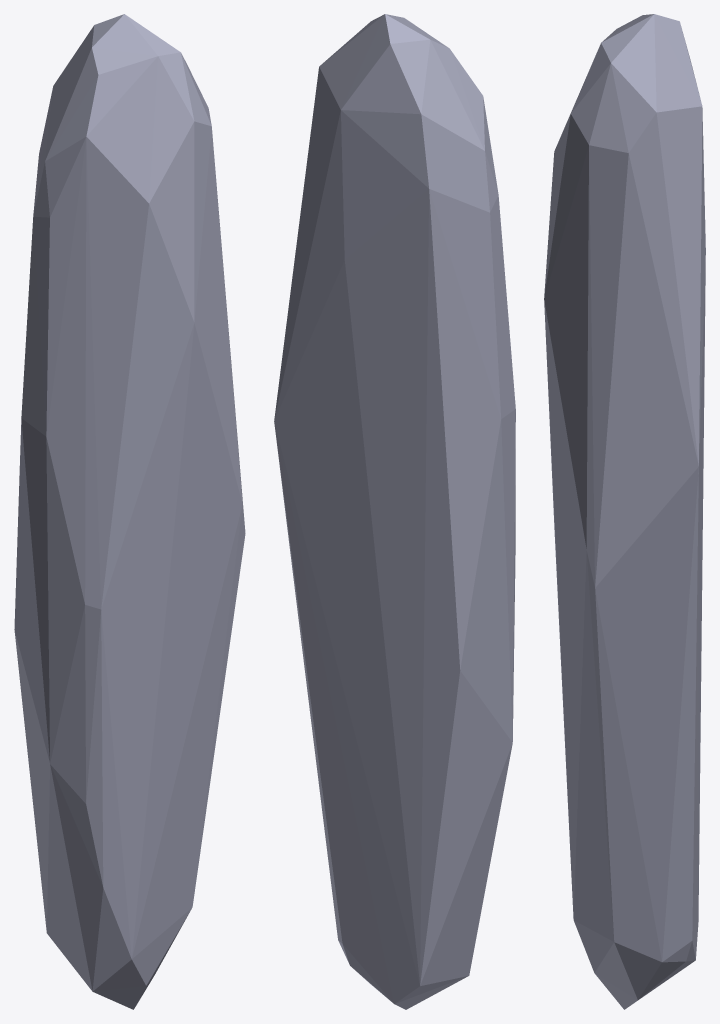
Rendered from food_prepared_baguette_d01.glb.
3 renders of one model, left to right at view 1: azimuth 30°, elevation 25°; view 2: azimuth 150°, elevation 25°; view 3: azimuth 270°, elevation 25°, orthographic. The views are drawn at different scales.
Parts seen in each view (by area): view 1: geometry_0; view 2: geometry_0; view 3: geometry_0.
Part boxes in pixels (bbox=[...]): geometry_0: bbox=[14, 14, 245, 1009]; geometry_0: bbox=[274, 14, 515, 1009]; geometry_0: bbox=[544, 14, 705, 1009].
Bounding box in the file's own units: 0.1016 × 0.4773 × 0.0701.
